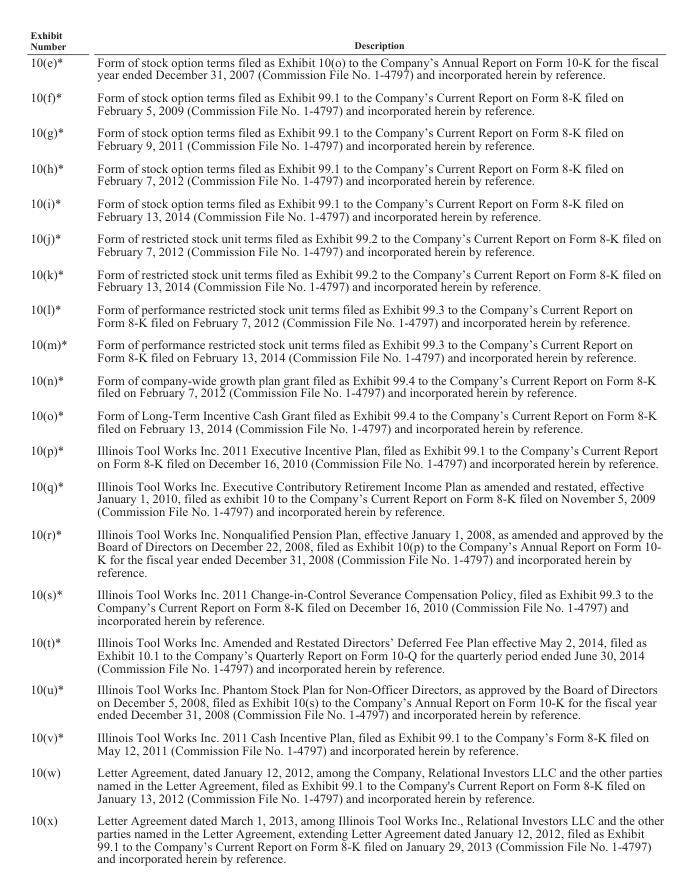table: (29, 29, 663, 865)
table column: (81, 29, 663, 865), (29, 29, 81, 865)
table column header: (29, 29, 663, 52)
table row: (29, 522, 663, 582), (29, 808, 663, 865), (29, 474, 663, 522), (29, 582, 663, 630), (29, 630, 663, 678), (29, 760, 663, 808), (29, 678, 663, 725), (29, 120, 663, 156), (29, 226, 663, 262), (29, 332, 663, 368), (29, 438, 663, 474), (29, 85, 663, 120), (29, 156, 663, 191), (29, 191, 663, 226), (29, 262, 663, 297), (29, 297, 663, 332), (29, 368, 663, 403), (29, 403, 663, 438), (29, 725, 663, 760), (29, 52, 663, 85), (29, 29, 663, 52)
